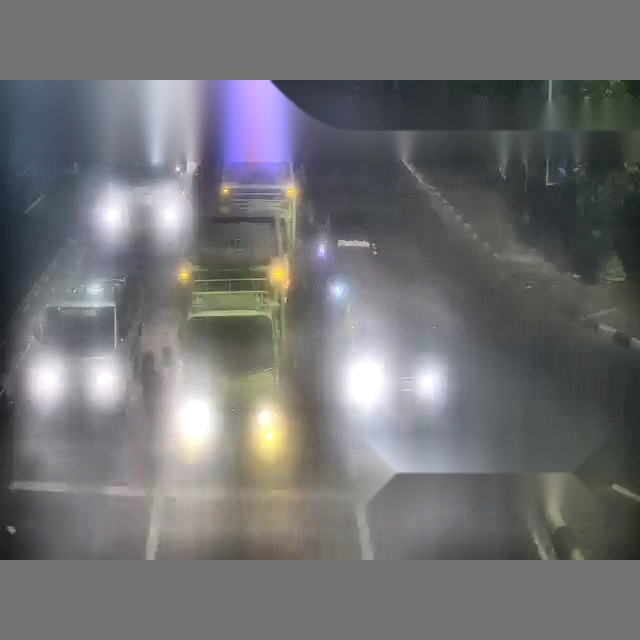Truk: (178, 82, 303, 319)
